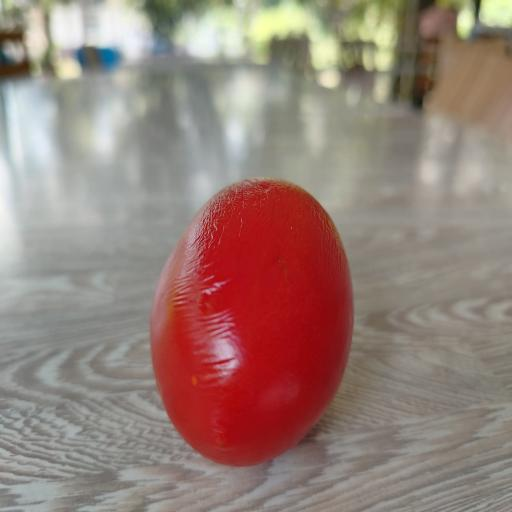spoiled: (151, 179, 353, 466)
